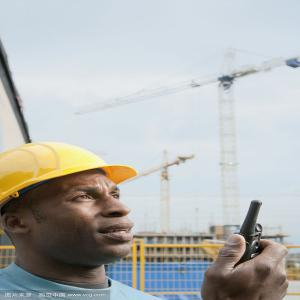yellow: (2, 142, 142, 269)
